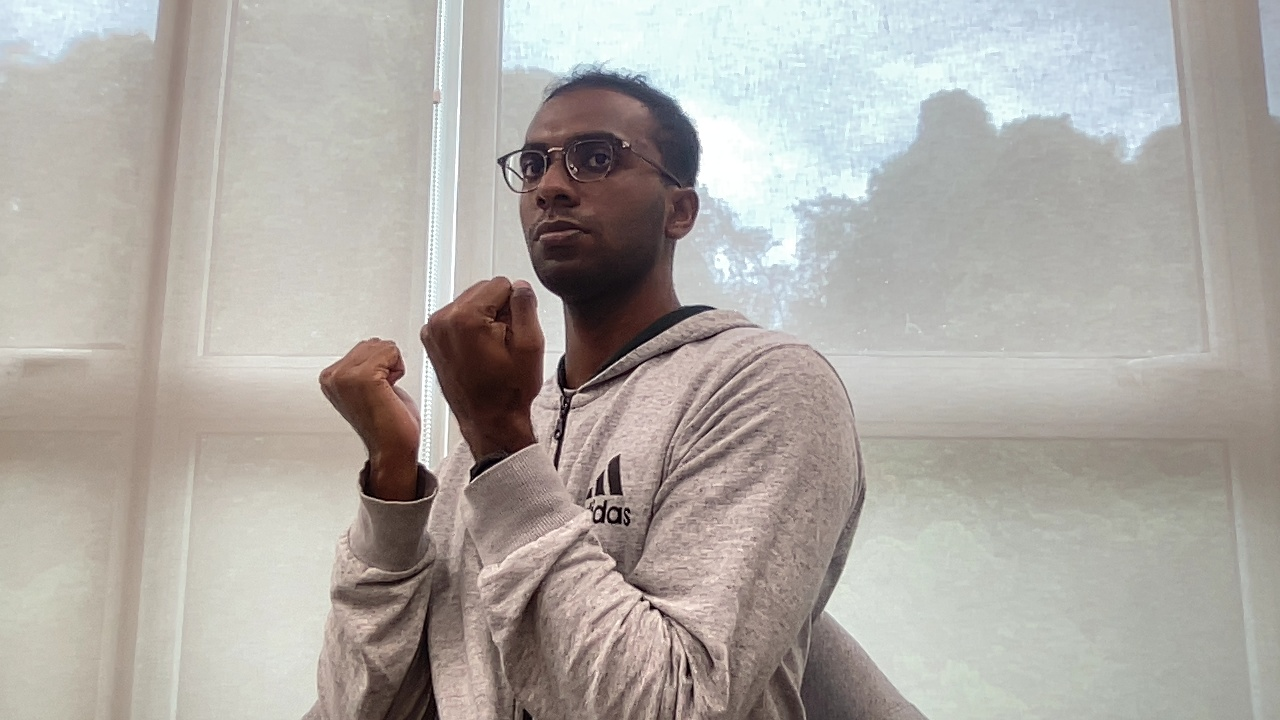finish: (312, 271, 555, 451)
